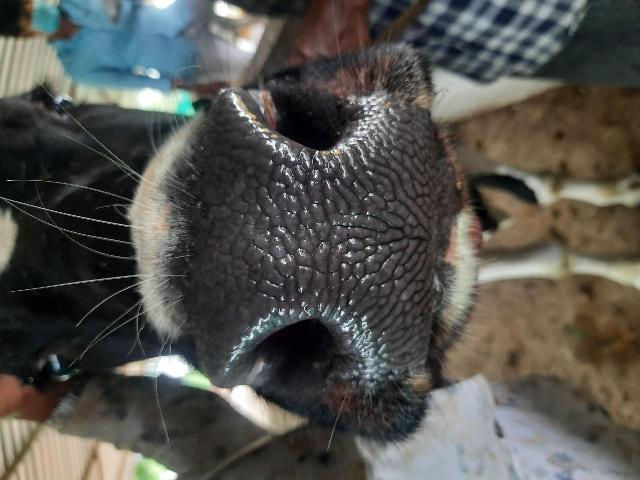Muzzle: (201, 97, 429, 399)
